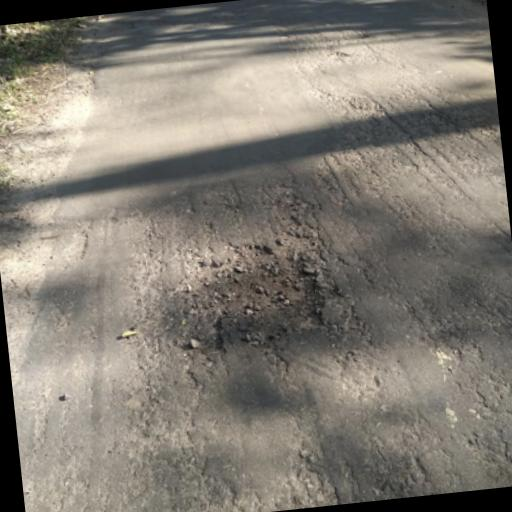pothole: (172, 232, 334, 356)
